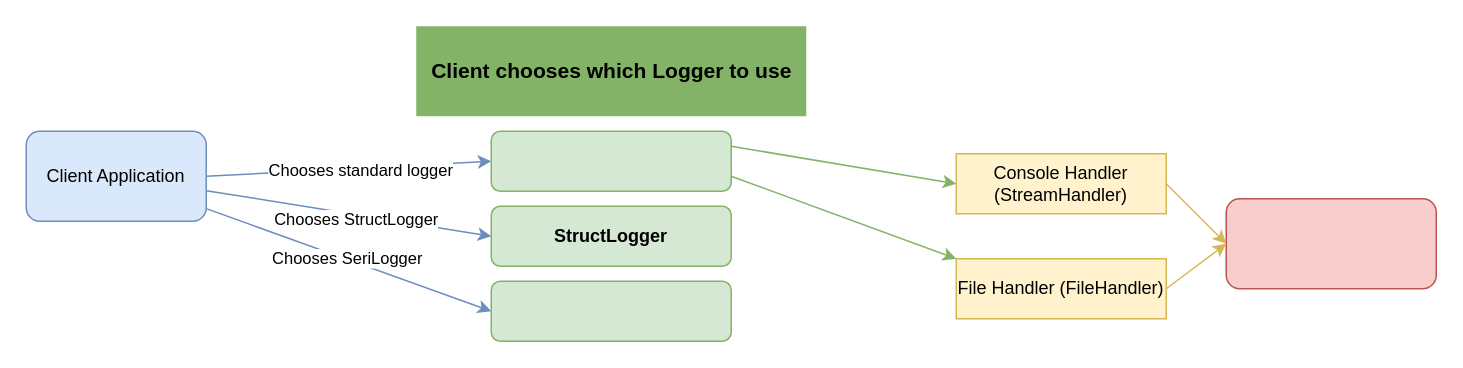
Some shapes in this 1463 by 368 pixel diagram are drawn without their labels. The shapes that lost their labels are listed below. From the top down, each one's centre as x and y in pixels, then its label:
At [610,160]: "StandardLogger (std_log.py)".
At [1330,243]: "Python Standard Logging Module".
At [610,310]: "SeriLogger".
